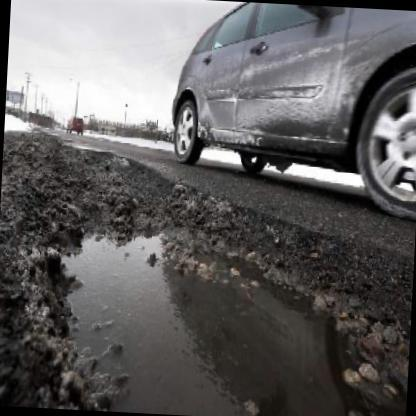pothole: (25, 201, 378, 416)
